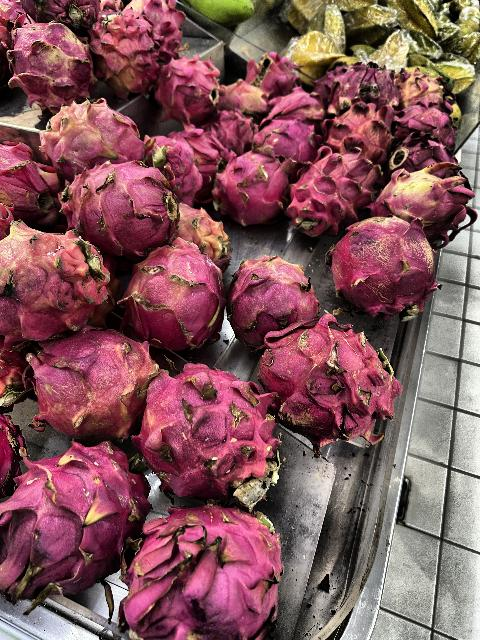buah-naga-belum-matang: (0, 220, 112, 338), (335, 217, 451, 326), (35, 333, 152, 433), (10, 20, 94, 111), (226, 248, 314, 332), (44, 103, 138, 173), (382, 168, 474, 238), (170, 204, 241, 266), (394, 71, 460, 115), (221, 82, 269, 114)
buah-naga-matang: (106, 500, 300, 640), (19, 436, 179, 590), (145, 367, 283, 499), (254, 318, 398, 442), (128, 242, 222, 354), (71, 160, 179, 242), (298, 145, 374, 229), (89, 1, 156, 88), (222, 146, 296, 218), (0, 148, 70, 218), (143, 136, 207, 202), (250, 114, 314, 164), (380, 128, 449, 172), (168, 59, 222, 114), (318, 98, 377, 148), (385, 94, 453, 136), (144, 4, 184, 61), (250, 51, 304, 91), (332, 68, 390, 102), (267, 85, 313, 118), (206, 112, 254, 142)
